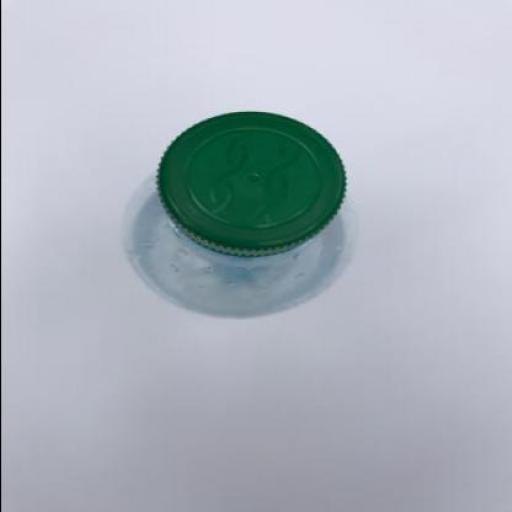plastic: (130, 112, 354, 318), (154, 112, 346, 256)
